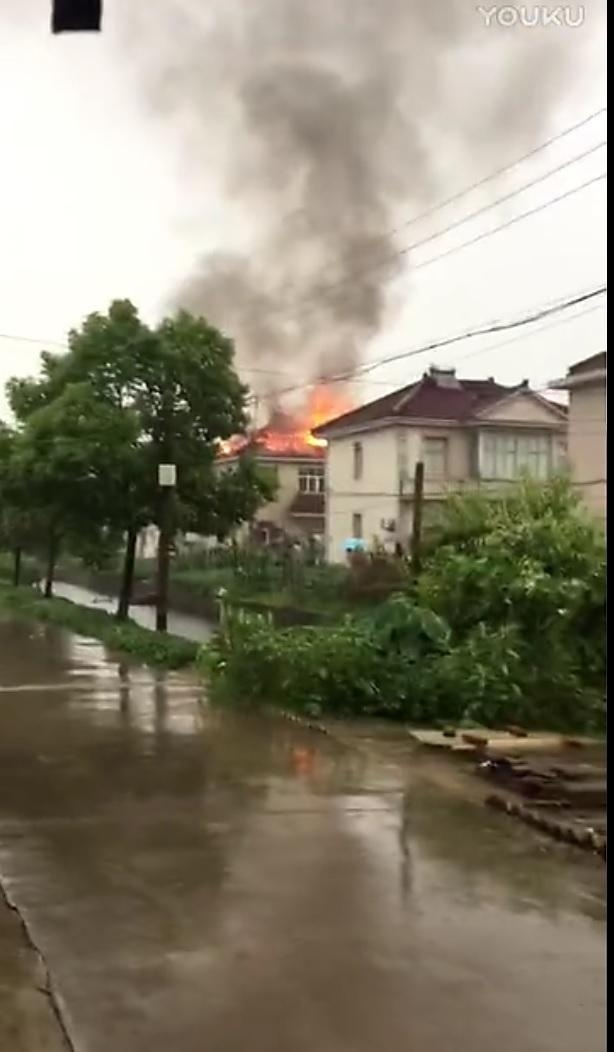fire: (299, 389, 344, 448)
